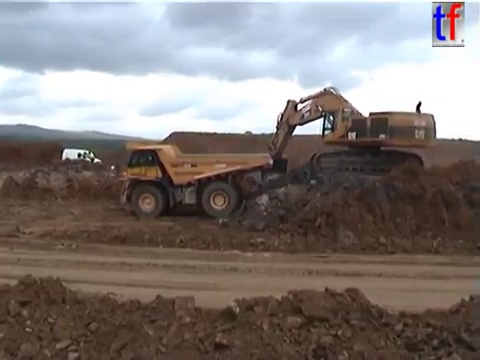excavator: (256, 84, 438, 189)
truck: (108, 139, 273, 220)
worker: (86, 149, 96, 167), (80, 149, 88, 167)
